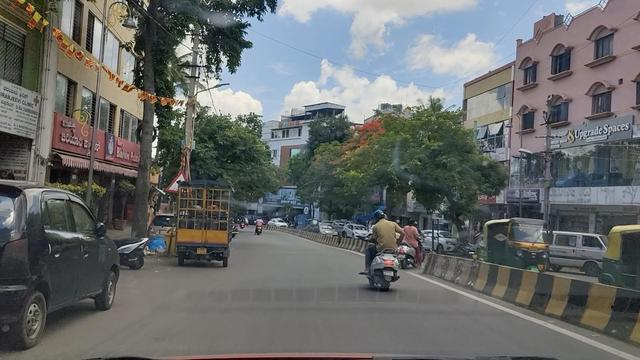LMV: (181, 183, 234, 264), (364, 217, 394, 291)
